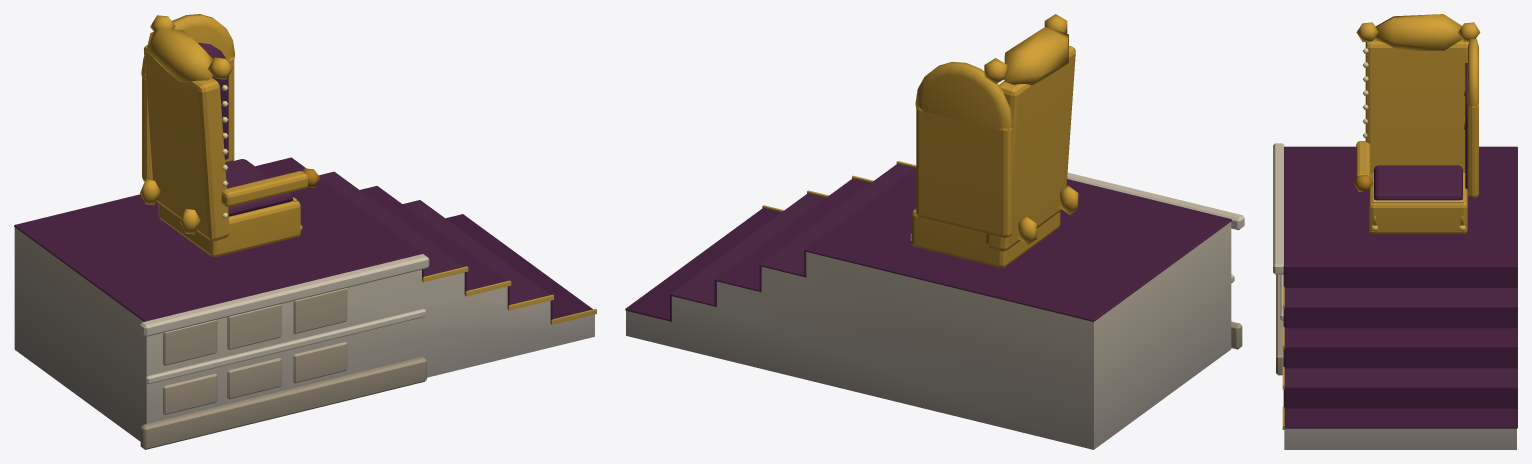
File: throne.glb
The picture shows the model from 3 angles, left to right: view 1: azimuth 30°, elevation 25°; view 2: azimuth 150°, elevation 25°; view 3: azimuth 270°, elevation 25°; orthographic projection. The views are drawn at different scales.
Visible parts, largest first — view 1: throne; view 2: throne; view 3: throne.
Boxes of the visible parts, bbox=[...] form: throne: bbox=[14, 14, 596, 449]; throne: bbox=[625, 14, 1244, 449]; throne: bbox=[1273, 14, 1517, 449].
Bounding box in the file's own units: 6.61 × 4.51 × 3.47.
